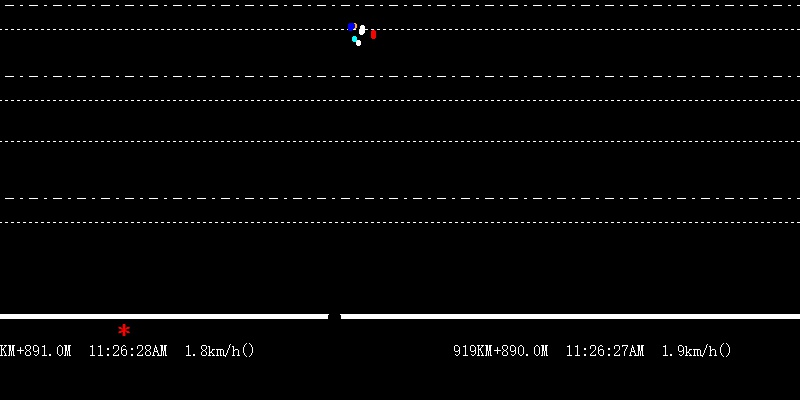face_down: (369, 25, 378, 42)
face_s: (347, 18, 358, 33)
star: (116, 321, 131, 337)
